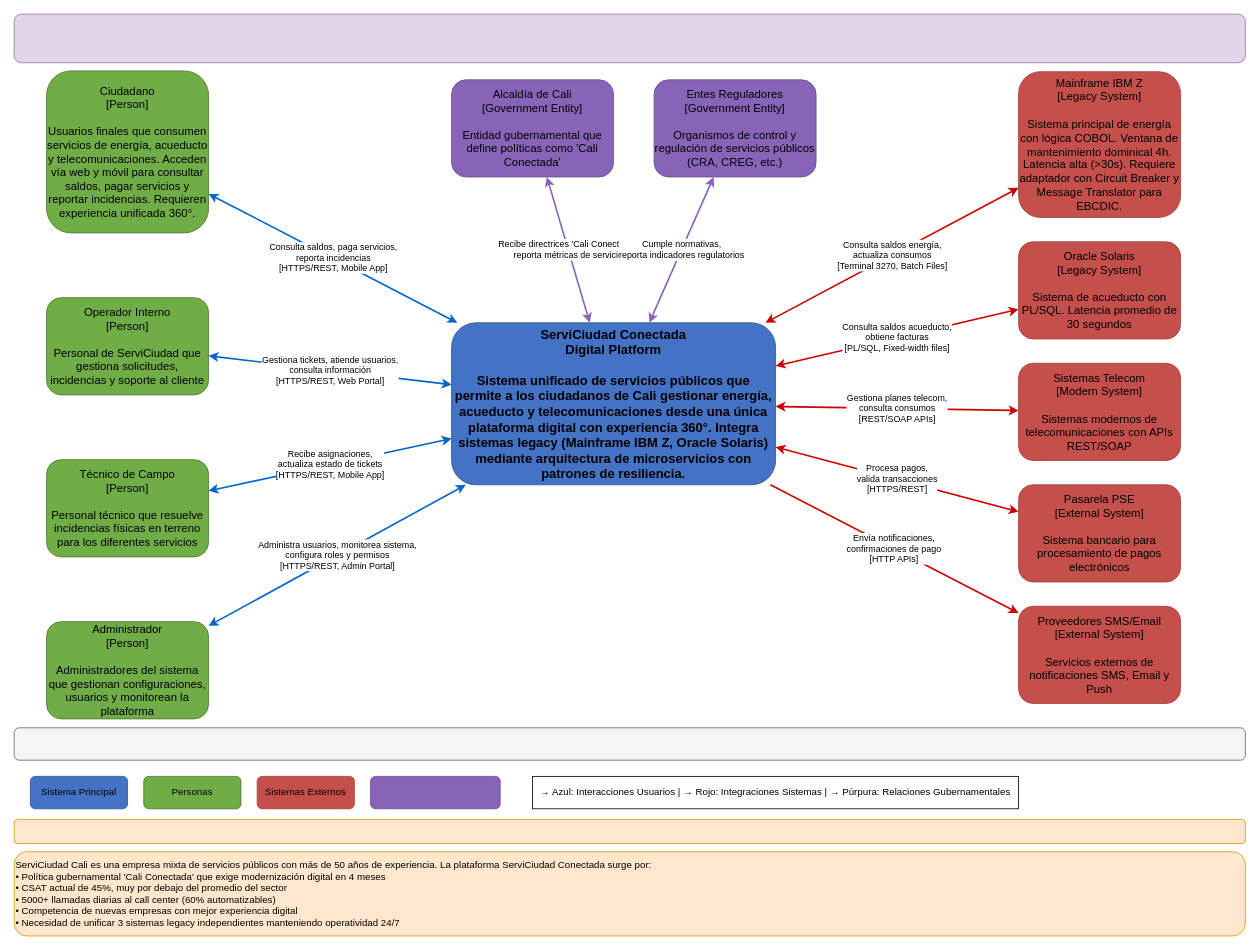
Some shapes in this 1260 by 950 pixel diagram are drawn without their labels. The centre of each missing label's shape, as x and y in pixels:
C4 CONTEXT DIAGRAM - SERVICIUDAD CONECTADA: point (629, 38)
CONTEXTO DE NEGOCIO: point (629, 831)
Entidades Gubernamentales: point (435, 792)
LEYENDA C4 - CONTEXTO: point (629, 743)
